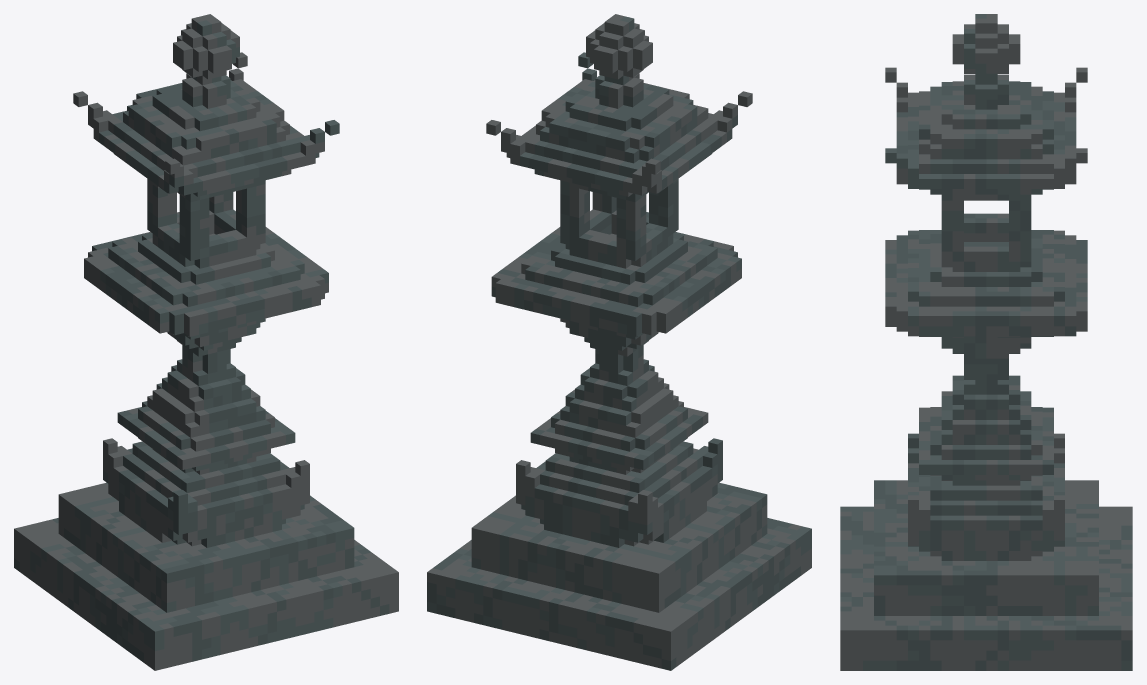
Rendered from lantern.obj.
3 views of the same model, side by side, from view 1: azimuth 30°, elevation 25°; view 2: azimuth 150°, elevation 25°; view 3: azimuth 270°, elevation 25° (orthographic). The views are drawn at different scales.
Size of the model in its own units: 2.6 by 5.8 by 2.6.
1 material, 1 textured.
